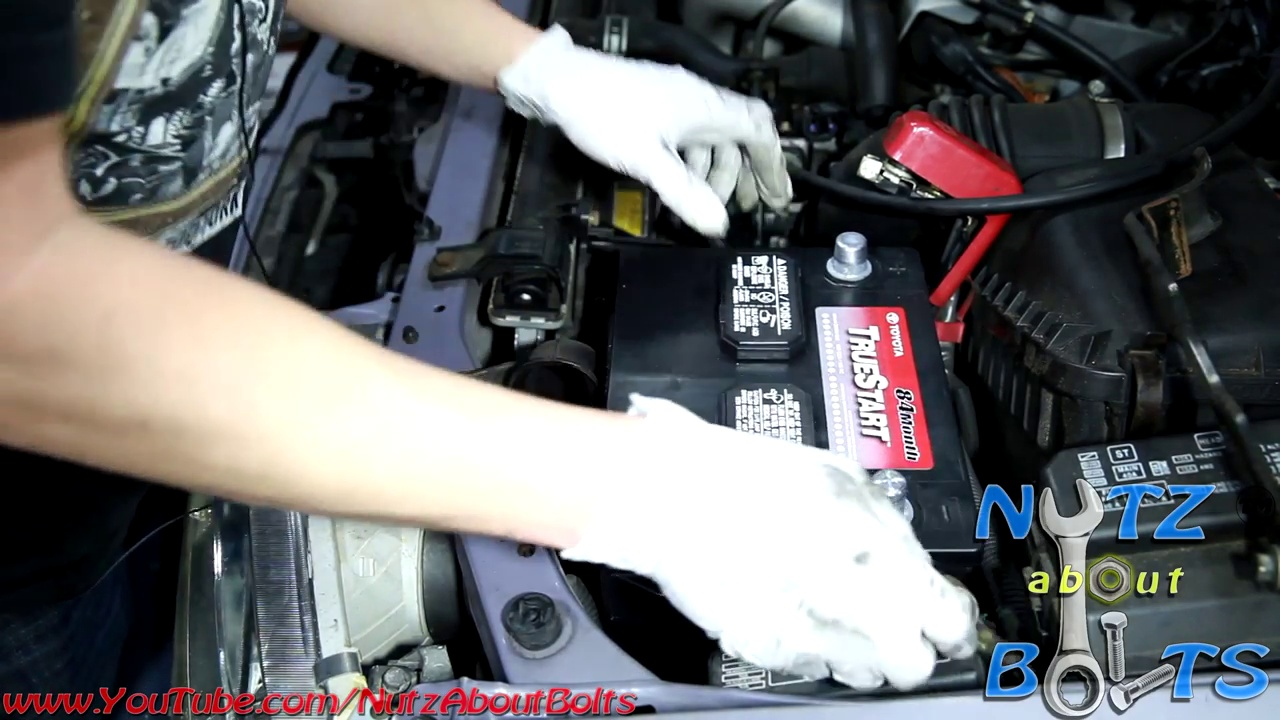battery: (615, 225, 982, 564)
neg_touched: (830, 433, 952, 561)
pos_disconnected: (820, 112, 1023, 330)
